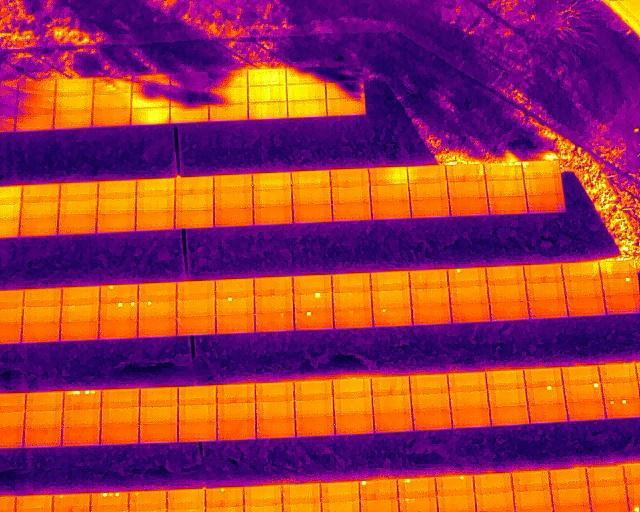Cell: (447, 267, 487, 288), (437, 475, 475, 497), (396, 478, 435, 499), (357, 481, 397, 501), (206, 487, 244, 508), (293, 310, 334, 329), (215, 296, 255, 315), (526, 386, 566, 405), (564, 382, 604, 401), (294, 293, 332, 312), (374, 307, 410, 327), (129, 491, 168, 509), (256, 313, 293, 331), (53, 494, 93, 510), (603, 278, 638, 296), (100, 284, 137, 301), (139, 301, 176, 317)
Cell-Multi: (99, 302, 140, 321), (64, 390, 103, 409), (603, 399, 639, 418), (89, 493, 128, 509), (485, 163, 521, 180)
No-Anomaly: (585, 467, 627, 489), (489, 405, 530, 427), (214, 173, 254, 195), (407, 374, 451, 394), (410, 392, 451, 413), (242, 486, 283, 507), (61, 426, 101, 447), (451, 408, 491, 429), (320, 482, 360, 503), (485, 370, 529, 389), (139, 423, 180, 443), (332, 377, 371, 398), (174, 176, 214, 196), (215, 315, 255, 335), (588, 488, 628, 508), (252, 172, 292, 192), (57, 199, 99, 218), (282, 485, 321, 505), (333, 308, 372, 328), (251, 206, 292, 225), (410, 200, 451, 219), (23, 391, 64, 410), (413, 411, 454, 430), (62, 410, 103, 429), (176, 387, 217, 406), (527, 195, 567, 214), (293, 205, 333, 224), (551, 490, 591, 509), (488, 388, 528, 407), (100, 389, 140, 408), (217, 385, 257, 404), (139, 388, 179, 407), (449, 391, 489, 410), (333, 397, 373, 416), (372, 395, 412, 414), (295, 418, 335, 437), (528, 299, 568, 318), (369, 376, 411, 394), (332, 273, 371, 292), (61, 286, 100, 305), (292, 275, 331, 294), (548, 470, 587, 489), (217, 421, 256, 440), (24, 409, 63, 428), (138, 318, 177, 337), (98, 321, 137, 340), (412, 305, 451, 324), (448, 373, 487, 392), (174, 194, 215, 212), (293, 381, 334, 399), (21, 306, 62, 324), (450, 304, 491, 322), (487, 265, 525, 284), (372, 272, 410, 291), (138, 282, 176, 301), (473, 474, 511, 493), (512, 472, 550, 491), (101, 426, 139, 445), (179, 423, 217, 442), (166, 489, 204, 508), (490, 302, 528, 321), (568, 297, 606, 316), (332, 291, 372, 309), (563, 281, 603, 299), (136, 213, 176, 231), (253, 384, 293, 402), (23, 429, 63, 447), (334, 415, 374, 433), (178, 316, 214, 336), (487, 284, 526, 302), (254, 277, 293, 295), (489, 196, 528, 214), (20, 201, 59, 219), (450, 198, 489, 216), (136, 179, 175, 197), (256, 401, 295, 419), (475, 494, 514, 512), (178, 404, 217, 422), (256, 420, 295, 438), (101, 408, 140, 426), (294, 399, 335, 416), (23, 289, 61, 307), (524, 179, 562, 197), (97, 216, 135, 234), (213, 208, 251, 226), (529, 404, 567, 422), (374, 414, 412, 432), (22, 324, 60, 342), (371, 202, 411, 219), (216, 404, 256, 421), (562, 366, 602, 383), (514, 491, 551, 509), (524, 283, 563, 300), (214, 279, 253, 296), (58, 218, 97, 235), (19, 220, 58, 237), (408, 184, 447, 201), (486, 180, 525, 197), (16, 495, 55, 512), (139, 407, 178, 424), (248, 102, 287, 119), (170, 107, 209, 124), (330, 169, 369, 186), (177, 298, 216, 315), (252, 190, 293, 206), (410, 271, 448, 288), (372, 290, 410, 307), (370, 185, 408, 202), (331, 186, 369, 203), (600, 382, 638, 399), (407, 167, 445, 184), (93, 109, 131, 126), (55, 112, 93, 129), (598, 364, 636, 381), (292, 170, 330, 187), (135, 197, 175, 213), (214, 193, 254, 209), (20, 184, 60, 200), (247, 70, 287, 86), (288, 101, 328, 117), (130, 109, 170, 125), (527, 264, 562, 282), (255, 295, 292, 312), (562, 265, 599, 282), (327, 99, 364, 116), (93, 93, 130, 110), (61, 325, 98, 342), (570, 401, 603, 420), (410, 289, 449, 305), (97, 199, 136, 215), (368, 170, 407, 186), (525, 369, 564, 385), (247, 87, 288, 102), (334, 203, 370, 220), (62, 306, 98, 323), (175, 212, 213, 228), (288, 84, 326, 100), (55, 95, 93, 111), (606, 297, 639, 315), (294, 188, 331, 204), (99, 182, 136, 198), (450, 288, 489, 303), (209, 105, 248, 120), (58, 78, 92, 95), (448, 182, 486, 197), (177, 282, 214, 297), (438, 497, 475, 512), (59, 185, 98, 199)
Shadowing: (286, 67, 326, 87), (326, 81, 364, 100), (210, 70, 248, 89), (131, 74, 171, 92), (208, 86, 248, 104), (93, 76, 132, 94), (16, 113, 55, 131), (170, 74, 211, 91), (131, 92, 171, 109), (169, 90, 208, 107), (17, 97, 54, 113), (20, 81, 57, 96)
Unclassified: (522, 161, 560, 180), (445, 164, 485, 182)
